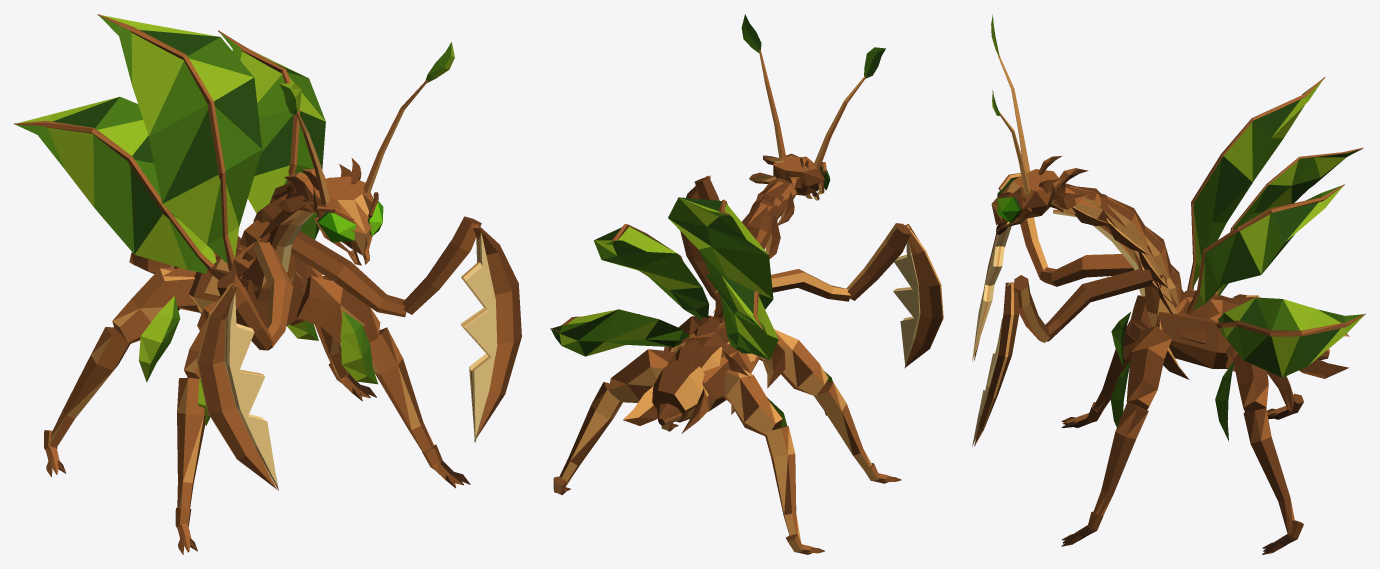
The model's file is mantis-study-complete-pass2.glb.
3 views of the same model, side by side, from view 1: azimuth 30°, elevation 25°; view 2: azimuth 150°, elevation 25°; view 3: azimuth 270°, elevation 25° (orthographic). The views are drawn at different scales.
Parts seen in each view (by area): view 1: Leaf wing wing-1_0, Leaf wing wing-1_1, Leaf wing wing1_0, Swept bevelled wood sickle -1, Swept bevelled wood sickle 1, Bevelled continuous ivory teeth 1, Bevelled continuous ivory teeth -1, Raptorial upper arm 1, Walking femur leg1_0, Walking tibia leg1_0, Walking femur leg-1_1, Walking tibia leg-1_1 (+17 smaller); view 2: Leaf wing wing-1_0, Leaf wing wing1_0, Leaf wing wing1_1, Leaf wing wing-1_1, Swept bevelled wood sickle -1, Abdomen core, Walking femur leg-1_1, Abdominal tergite 2, Walking tibia leg-1_1, Walking tibia leg1_1, Walking femur leg1_1, Walking femur leg-1_0 (+13 smaller); view 3: Leaf wing wing1_1, Leaf wing wing-1_0, Leaf wing wing1_0, Abdomen core, Leaf wing wing-1_1, Rising prothorax curved cervical arch, Walking femur leg1_0, Raptorial upper arm 1, Walking tibia leg1_1, Walking tibia leg1_0, Swept bevelled wood sickle 1, Raptorial upper arm -1 (+19 smaller).
Boxes of the visible parts, x1=… form: Leaf wing wing-1_0: x1=99, y1=15, x2=262, y2=263; Leaf wing wing-1_1: x1=16, y1=96, x2=216, y2=273; Leaf wing wing1_0: x1=219, y1=32, x2=325, y2=213; Swept bevelled wood sickle -1: x1=197, y1=284, x2=277, y2=489; Swept bevelled wood sickle 1: x1=472, y1=223, x2=521, y2=441; Bevelled continuous ivory teeth 1: x1=460, y1=225, x2=497, y2=442; Bevelled continuous ivory teeth -1: x1=224, y1=285, x2=278, y2=490; Raptorial upper arm 1: x1=291, y1=231, x2=406, y2=317; Walking femur leg1_0: x1=296, y1=276, x2=380, y2=343; Walking tibia leg1_0: x1=369, y1=327, x2=433, y2=451; Walking femur leg-1_1: x1=112, y1=268, x2=199, y2=343; Walking tibia leg-1_1: x1=49, y1=327, x2=130, y2=447; Leaf wing wing-1_0: x1=668, y1=197, x2=773, y2=309; Leaf wing wing1_0: x1=593, y1=226, x2=709, y2=319; Leaf wing wing1_1: x1=551, y1=309, x2=689, y2=356; Leaf wing wing-1_1: x1=706, y1=274, x2=778, y2=359; Swept bevelled wood sickle -1: x1=904, y1=224, x2=943, y2=368; Abdomen core: x1=657, y1=319, x2=759, y2=425; Walking femur leg-1_1: x1=724, y1=369, x2=782, y2=435; Abdominal tergite 2: x1=652, y1=360, x2=708, y2=422; Walking tibia leg-1_1: x1=765, y1=426, x2=800, y2=541; Walking tibia leg1_1: x1=560, y1=382, x2=622, y2=487; Walking femur leg1_1: x1=609, y1=349, x2=674, y2=402; Walking femur leg-1_0: x1=759, y1=329, x2=828, y2=395; Leaf wing wing1_1: x1=1218, y1=297, x2=1363, y2=377; Leaf wing wing-1_0: x1=1192, y1=79, x2=1323, y2=288; Leaf wing wing1_0: x1=1193, y1=185, x2=1342, y2=310; Abdomen core: x1=1155, y1=295, x2=1329, y2=368; Leaf wing wing-1_1: x1=1217, y1=148, x2=1361, y2=295; Rising prothorax curved cervical arch: x1=1049, y1=183, x2=1188, y2=326; Walking femur leg1_0: x1=1126, y1=325, x2=1171, y2=409; Raptorial upper arm 1: x1=1045, y1=268, x2=1152, y2=341; Walking tibia leg1_1: x1=1243, y1=408, x2=1294, y2=533; Walking tibia leg1_0: x1=1093, y1=402, x2=1148, y2=515; Swept bevelled wood sickle 1: x1=974, y1=282, x2=1019, y2=446; Raptorial upper arm -1: x1=1039, y1=254, x2=1133, y2=286.
Size of the model in its own units: 2.73 by 3.88 by 3.2.
